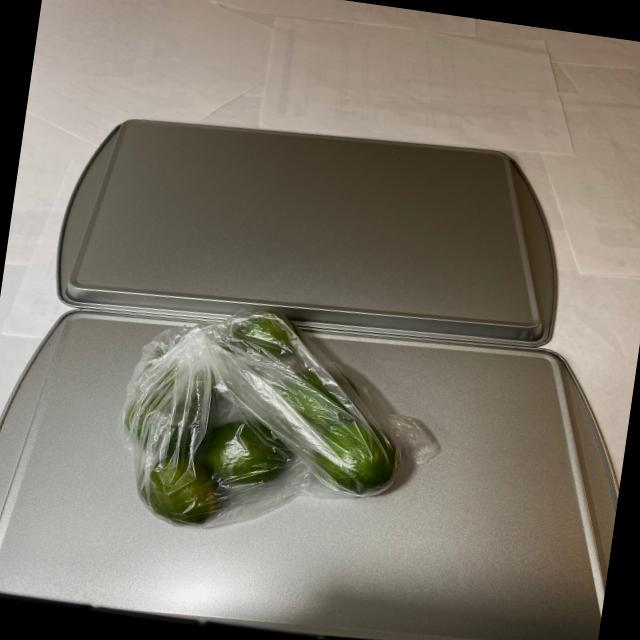lemon: (123, 298, 416, 552)
